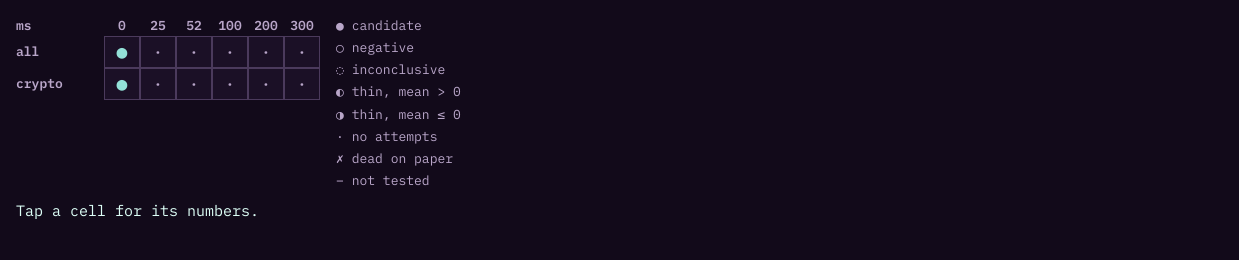
Test case: SweetLadderGrid › is a table of buttons named by bucket, rung and verdict; focus shows the detail line under it
The width and height of the screenshot is (1239, 260).
Expected: the button named "crypto at rung-25 (25 ms): no attempts" reads "·", [140,68,176,100]
Expected: the text "Tap a cell for its numbers." is shown, [16,201,259,220]
Focus the button named "crypto at rung-0 (0 ms): candidate" at (122, 84), box [104,68,140,100]
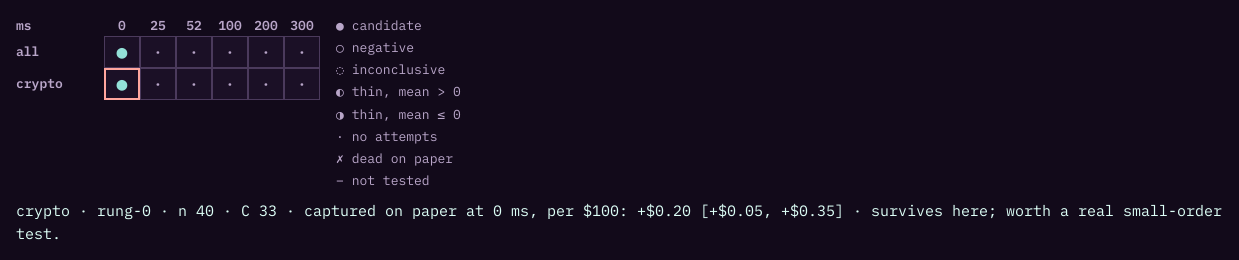
Expected: the text "crypto · rung-0 · n 40 · C 33 · captured on paper at 0 ms, per $100: +$0.20 [+$0.05, +$0.35] · survives here; worth a re" is shown, [16,201,1222,243]
